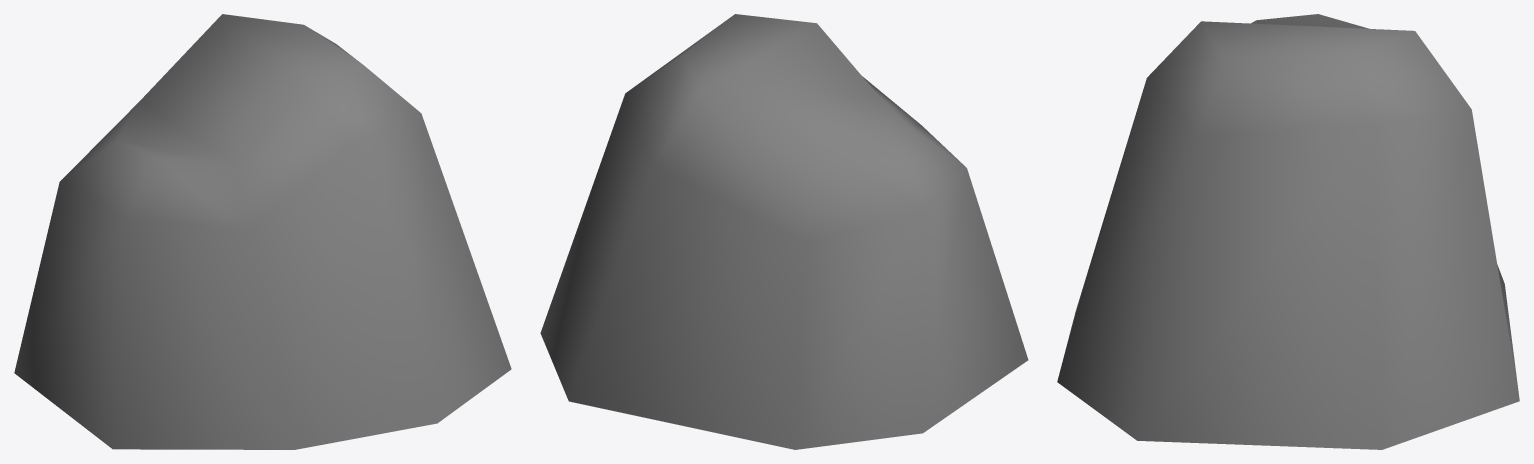
File: shi05.FBX
3 views of the same model, side by side, from view 1: azimuth 30°, elevation 25°; view 2: azimuth 150°, elevation 25°; view 3: azimuth 270°, elevation 25° (orthographic). The views are drawn at different scales.
Visible parts, largest first — view 1: shi05; view 2: shi05; view 3: shi05.
Boxes of the visible parts, x1,y1,x2,y2 form: shi05: [14, 14, 511, 449]; shi05: [540, 14, 1028, 449]; shi05: [1057, 14, 1519, 449].
Size of the model in its own units: 105 by 75.44 by 97.31.
